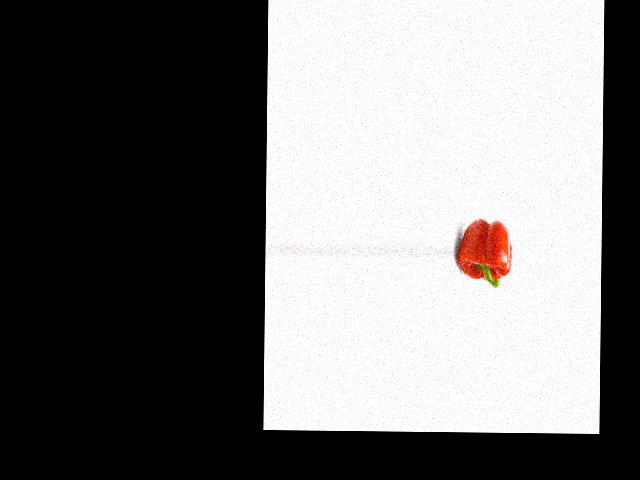bell_pepper: (457, 213, 512, 291)
